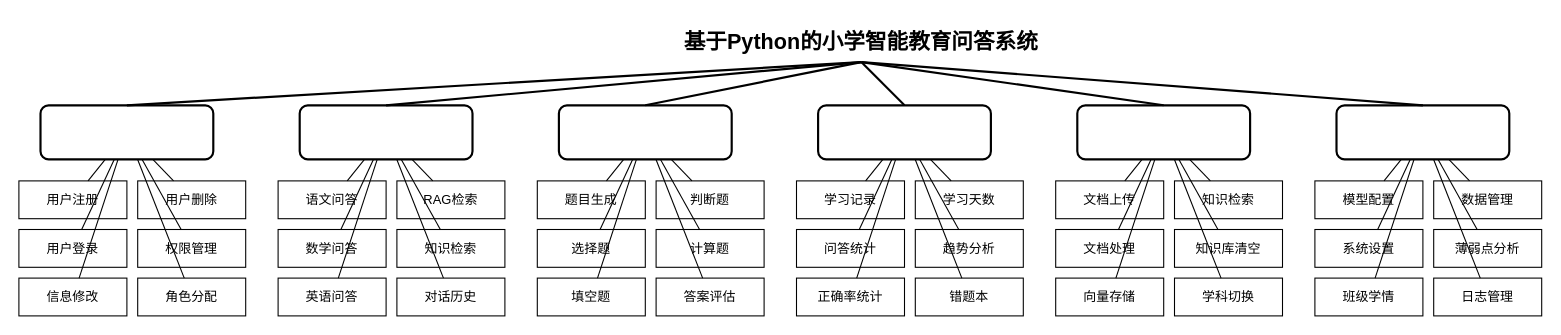
Some shapes in this 1561 by 335 pixel diagram are drawn without their labels. Each missing label, with the centre of its shape:
学习追踪: (903,132)
智能问答: (385,132)
用户管理: (126,132)
知识库管理: (1163,132)
系统管理: (1422,132)
练习系统: (644,132)
